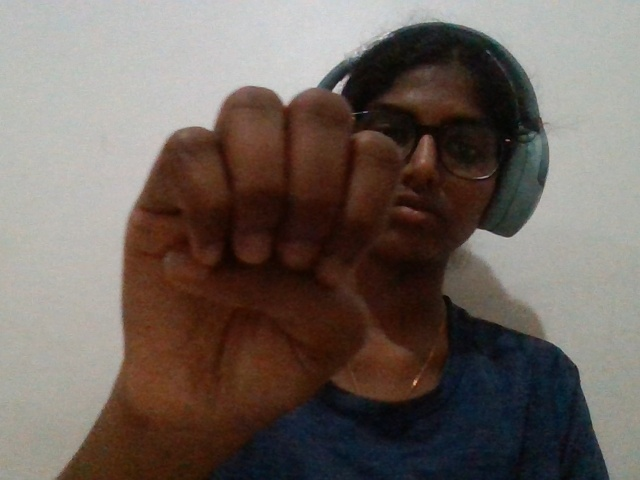E: (81, 64, 430, 475)
